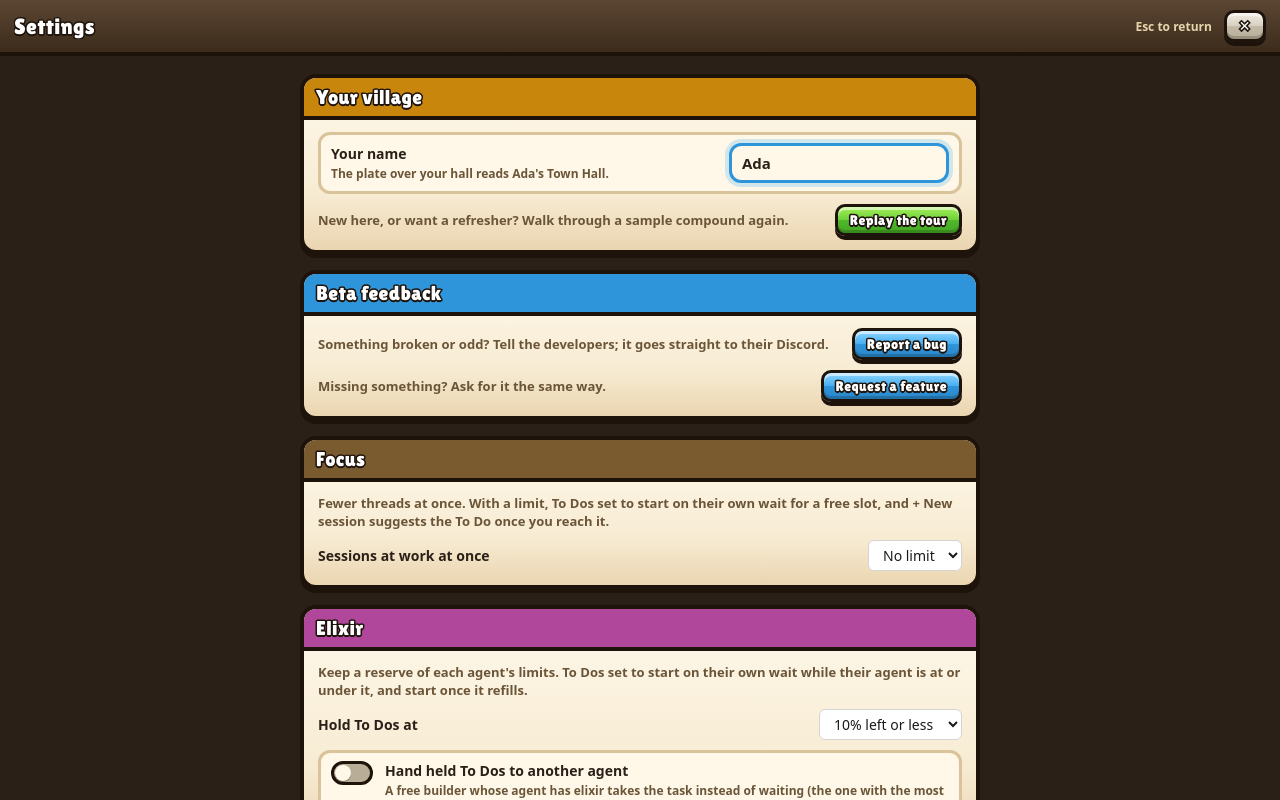
Test: the name saves on Enter, trimmed, and the plate preview follows it
This screenshot has width=1280, height=800.
Later steps or results of the test are not shown.
Check: the text "Ada's Town Hall" is shown, box x1=512 y1=165 x2=606 y2=182
Replace the text in the field labelled "Your name" with "  Fabian " at (839, 163), box x1=729 y1=143 x2=949 y2=183
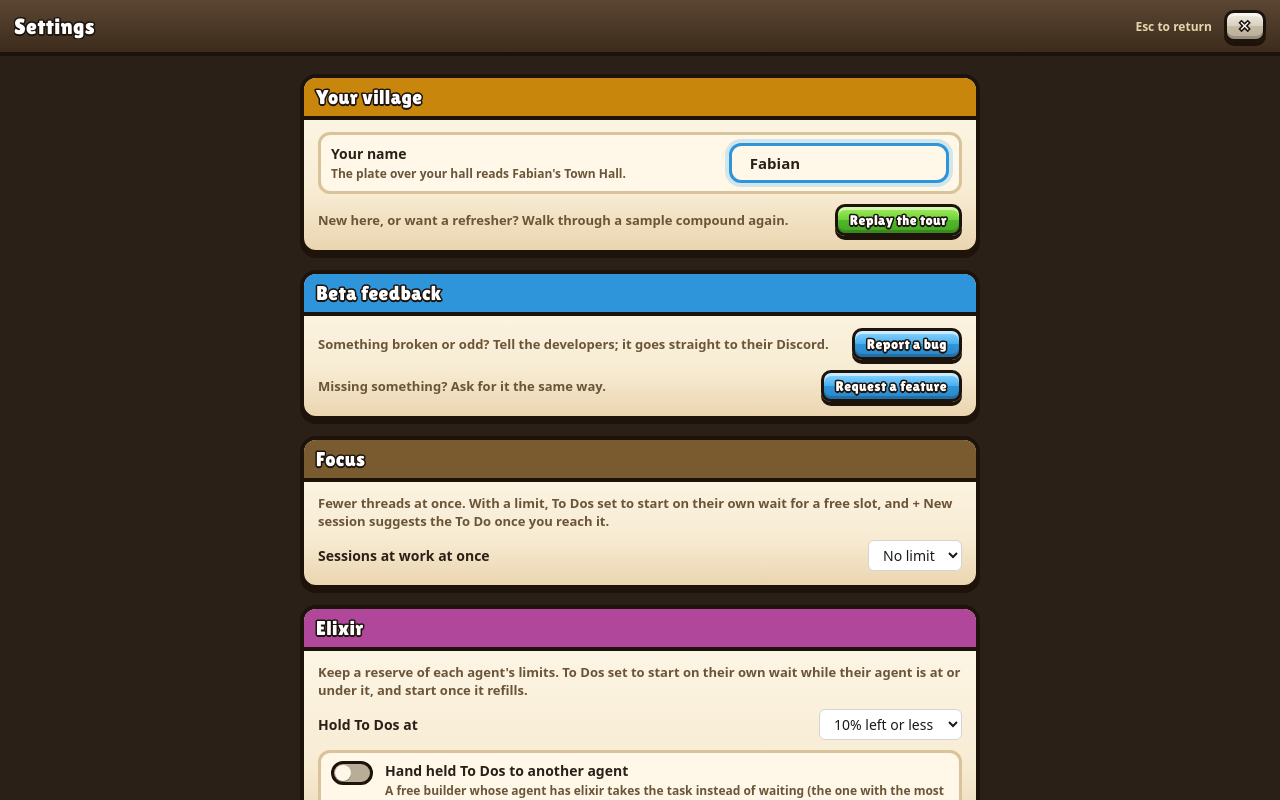
Check: the text "Fabian's Town Hall" is shown, box x1=512 y1=165 x2=622 y2=182
